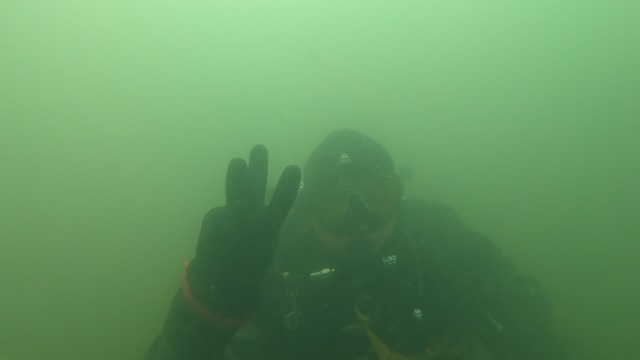Hand: (178, 144, 322, 317)
Head: (280, 128, 423, 292)
